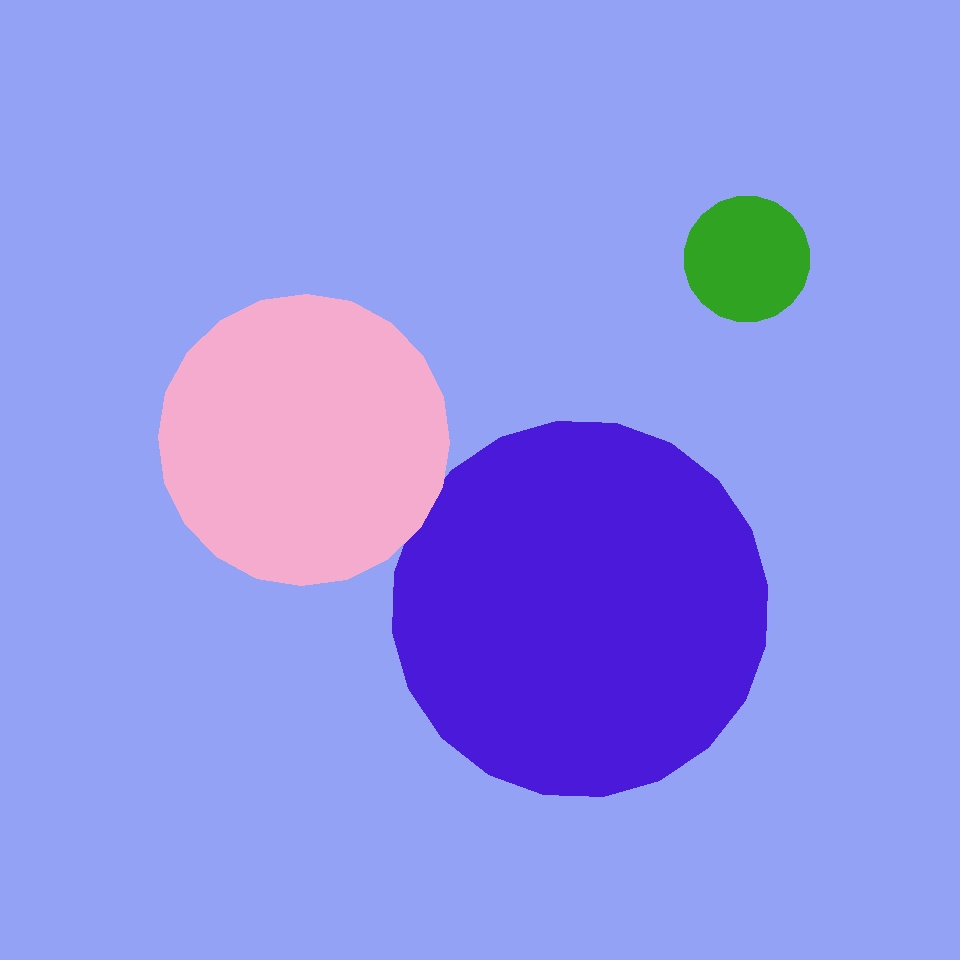circle: (466, 214, 740, 519)
square: (475, 335, 804, 663), (137, 491, 396, 750), (471, 139, 562, 229)
triangle: (392, 422, 768, 796), (306, 389, 661, 744), (158, 294, 450, 586), (684, 196, 809, 322)
